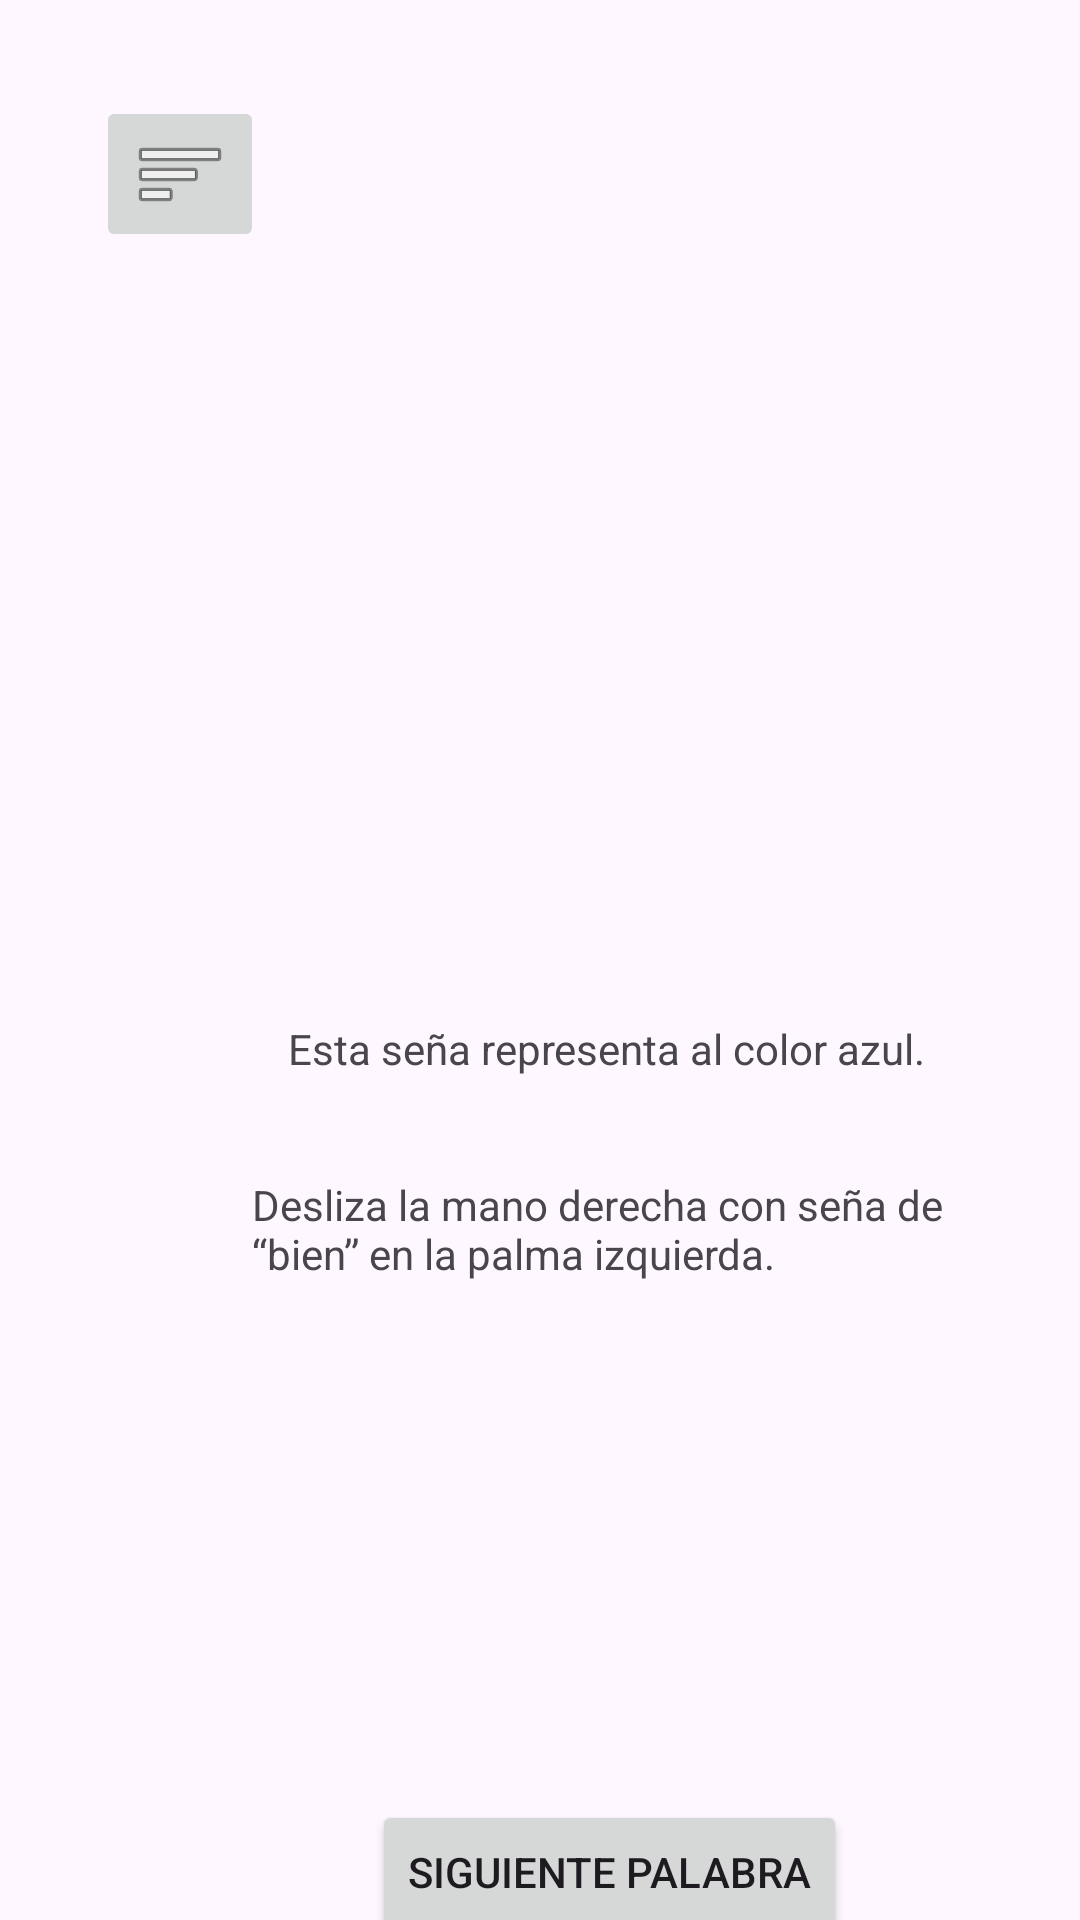

Screen size 1080*1920. Icon name, then its box in pixels as (x1, y1, x2, y2):
sort by size: (108, 114, 252, 234)
